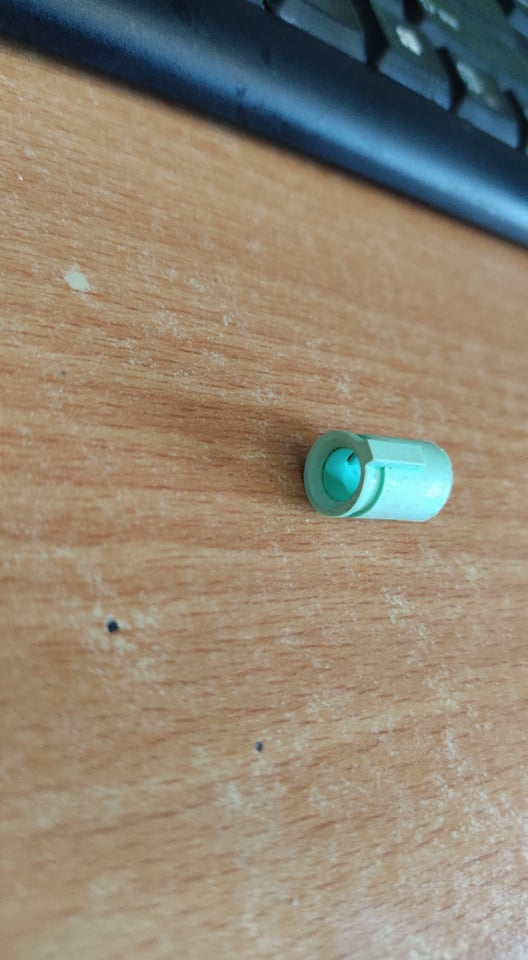green_bucking: (278, 407, 468, 536)
